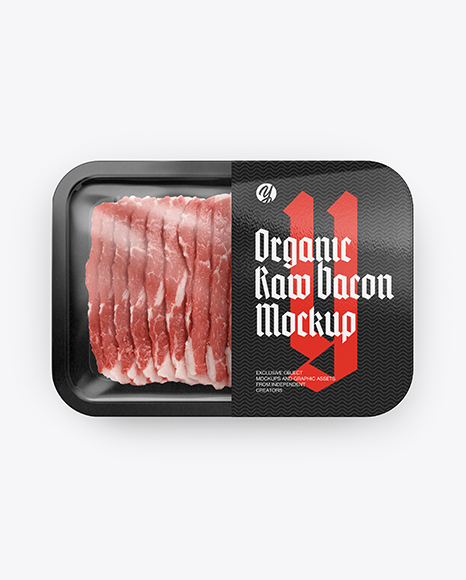bacon: (76, 195, 243, 385)
